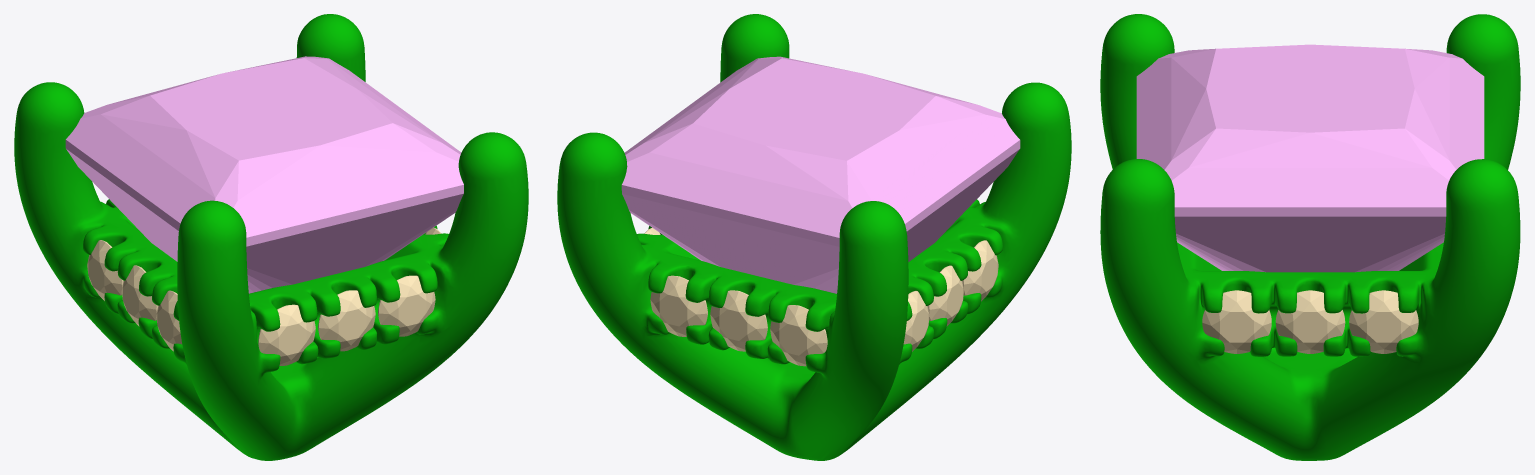
The picture shows the model from 3 angles, left to right: view 1: azimuth 30°, elevation 25°; view 2: azimuth 150°, elevation 25°; view 3: azimuth 270°, elevation 25°; orthographic projection. The views are drawn at different scales.
Visible parts, largest first — view 1: Metal01, Diamond_Princess, Diamond_Round.001, Diamond_Round, Diamond_Round.002, Diamond_Round.011, Diamond_Round.010, Diamond_Round.009; view 2: Metal01, Diamond_Princess, Diamond_Round.004, Diamond_Round.005, Diamond_Round.003, Diamond_Round.009, Diamond_Round.010, Diamond_Round.011; view 3: Metal01, Diamond_Princess, Diamond_Round.008, Diamond_Round.006, Diamond_Round.007.
Boxes of the visible parts, x1,y1,x2,y2 form: Metal01: (14, 14, 528, 460); Diamond_Princess: (65, 56, 463, 293); Diamond_Round.001: (318, 290, 375, 351); Diamond_Round: (378, 275, 435, 336); Diamond_Round.002: (258, 304, 315, 365); Diamond_Round.011: (87, 240, 123, 300); Diamond_Round.010: (121, 265, 158, 326); Diamond_Round.009: (156, 290, 181, 351); Metal01: (557, 14, 1071, 460); Diamond_Princess: (621, 56, 1020, 293); Diamond_Round.004: (710, 290, 767, 351); Diamond_Round.005: (650, 275, 707, 336); Diamond_Round.003: (770, 305, 827, 366); Diamond_Round.009: (962, 240, 998, 301); Diamond_Round.010: (927, 265, 963, 326); Diamond_Round.011: (903, 291, 929, 351); Metal01: (1100, 14, 1520, 460); Diamond_Princess: (1136, 44, 1484, 272); Diamond_Round.008: (1202, 290, 1271, 353); Diamond_Round.006: (1349, 290, 1418, 353); Diamond_Round.007: (1275, 290, 1345, 353).
Bounding box in the file's own units: 6.03 × 5.72 × 6.05.
